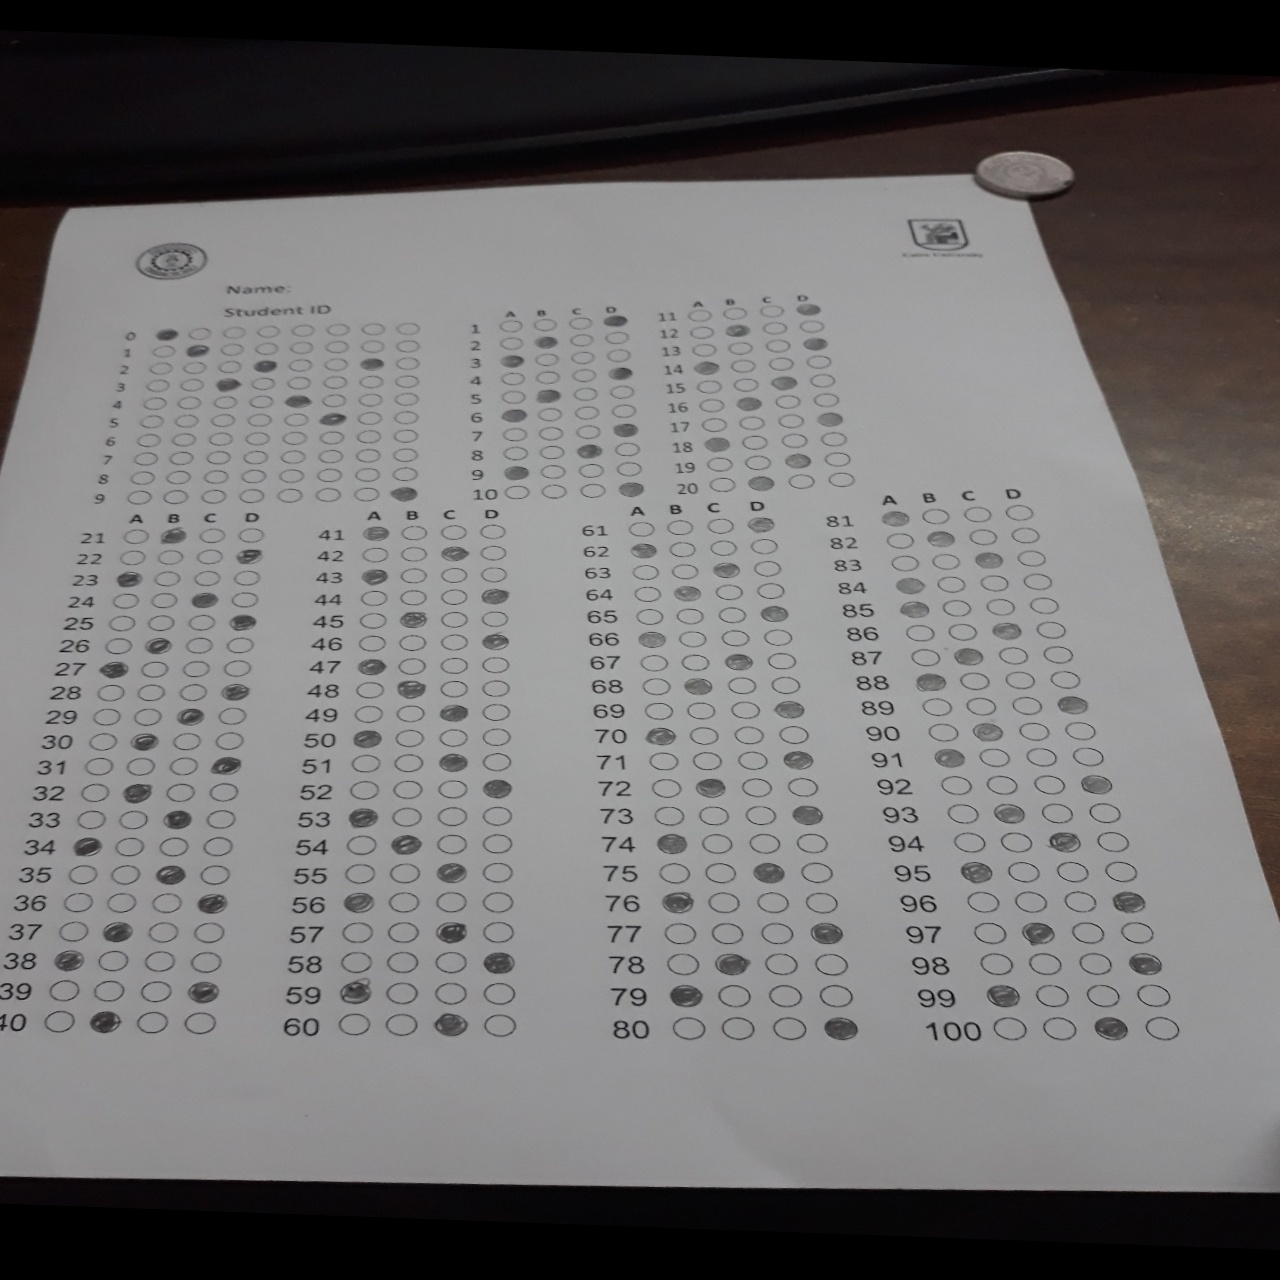not-c: (1064, 888, 1103, 913), (1135, 983, 1173, 1007), (1051, 860, 1091, 883), (1032, 772, 1071, 795), (1085, 983, 1123, 1007), (1039, 801, 1076, 824), (813, 951, 849, 975), (756, 890, 791, 914), (706, 891, 741, 915), (783, 775, 818, 799), (1077, 951, 1116, 973), (1071, 921, 1110, 944), (1024, 745, 1063, 768), (764, 949, 798, 974), (716, 983, 750, 1008), (663, 920, 697, 945), (704, 862, 738, 886), (700, 829, 734, 853), (745, 803, 779, 828), (697, 801, 731, 825), (152, 891, 186, 915), (113, 835, 147, 859), (971, 921, 1006, 945), (980, 952, 1015, 975), (770, 983, 805, 1007), (1029, 951, 1062, 975), (1035, 982, 1068, 1007), (818, 983, 851, 1008), (795, 830, 828, 855), (992, 1016, 1026, 1040), (805, 890, 839, 913), (801, 860, 835, 884), (747, 831, 781, 855), (670, 1015, 704, 1039), (736, 747, 770, 770), (384, 981, 418, 1005), (91, 979, 125, 1002), (48, 978, 82, 1001), (147, 919, 181, 942), (110, 863, 144, 886), (1144, 1017, 1182, 1039), (1112, 888, 1143, 914), (139, 978, 171, 1002), (64, 890, 96, 914), (1129, 951, 1160, 975), (772, 1016, 805, 1040), (668, 953, 701, 976), (660, 862, 693, 885), (742, 775, 775, 798), (386, 949, 418, 973), (483, 980, 516, 1003), (436, 981, 469, 1005), (339, 1012, 372, 1035), (384, 1012, 417, 1035), (45, 1009, 77, 1033), (190, 949, 223, 973), (55, 919, 88, 942), (107, 891, 139, 914), (197, 862, 230, 885), (203, 836, 236, 859), (206, 806, 239, 830), (1094, 1016, 1126, 1040), (944, 802, 978, 824), (1043, 1016, 1077, 1039), (761, 921, 795, 944), (899, 597, 933, 619), (1049, 830, 1080, 855), (1121, 921, 1156, 942), (982, 595, 1017, 617), (965, 526, 1000, 547), (484, 1013, 516, 1036), (136, 1010, 168, 1034), (69, 862, 101, 885), (157, 833, 189, 857), (77, 808, 109, 831), (987, 983, 1019, 1007), (720, 1016, 753, 1039), (712, 922, 744, 945), (116, 806, 149, 829), (774, 726, 812, 744), (995, 645, 1032, 665), (978, 572, 1014, 592), (920, 696, 954, 717), (978, 748, 1012, 769), (987, 774, 1021, 795), (685, 697, 719, 719), (724, 674, 758, 695), (678, 652, 712, 673), (1064, 720, 1098, 741), (1021, 921, 1051, 945), (961, 858, 992, 881), (933, 745, 964, 769), (435, 949, 467, 972), (186, 1012, 218, 1034), (98, 948, 130, 971), (144, 949, 176, 972), (195, 921, 226, 944), (1016, 721, 1051, 741), (1010, 695, 1046, 715), (1003, 670, 1039, 690), (1071, 745, 1104, 767), (925, 721, 958, 742), (940, 774, 973, 795), (953, 831, 986, 852), (1000, 832, 1033, 853), (1008, 860, 1041, 881), (1015, 890, 1048, 911), (731, 699, 764, 720), (649, 750, 682, 771), (652, 806, 685, 828), (678, 628, 710, 649), (719, 626, 751, 647), (761, 624, 794, 645), (345, 863, 377, 884), (914, 670, 947, 692), (484, 832, 515, 855), (1094, 831, 1128, 851), (1103, 862, 1137, 881), (651, 777, 685, 797), (771, 676, 805, 696), (483, 921, 515, 942), (165, 781, 197, 802), (86, 756, 117, 777), (169, 730, 200, 751), (217, 704, 248, 726), (131, 704, 163, 726), (89, 704, 121, 726), (135, 681, 166, 702), (104, 636, 136, 658), (185, 635, 217, 656), (1088, 803, 1121, 823), (734, 724, 767, 744), (689, 726, 722, 745), (686, 750, 719, 770), (642, 675, 675, 695), (765, 651, 798, 670), (636, 651, 669, 670), (756, 581, 789, 601), (80, 782, 113, 802), (209, 782, 241, 802), (222, 658, 254, 678), (137, 658, 170, 678), (223, 635, 256, 655), (438, 833, 469, 855), (388, 892, 418, 913), (434, 890, 464, 911), (388, 921, 418, 942), (341, 951, 372, 972), (86, 731, 120, 750), (968, 892, 1000, 912), (644, 702, 675, 722), (345, 835, 376, 855), (482, 892, 513, 912), (169, 756, 200, 776), (124, 756, 156, 776), (94, 682, 125, 702), (177, 682, 209, 702), (181, 659, 212, 679), (960, 505, 995, 523), (482, 806, 511, 828), (1042, 644, 1073, 663), (1081, 774, 1111, 794), (903, 621, 933, 641), (908, 646, 939, 666), (959, 669, 989, 689), (965, 695, 995, 715), (670, 563, 701, 583), (704, 515, 735, 535), (483, 862, 513, 881), (229, 588, 259, 608), (884, 531, 918, 549), (930, 551, 964, 568), (944, 622, 978, 640), (212, 731, 244, 750), (107, 613, 138, 632), (108, 590, 139, 608), (232, 568, 264, 587), (190, 568, 222, 587), (234, 525, 266, 544), (942, 598, 972, 618), (668, 538, 697, 558), (633, 583, 662, 602), (626, 518, 655, 538), (389, 863, 418, 883), (343, 922, 373, 942), (885, 554, 920, 571), (188, 613, 220, 631), (144, 613, 177, 631), (881, 509, 914, 526), (1050, 669, 1081, 688), (753, 558, 783, 577), (629, 563, 660, 581), (663, 518, 694, 537), (154, 568, 184, 587), (117, 549, 148, 567), (154, 549, 184, 567), (399, 522, 427, 542), (350, 753, 379, 772), (350, 778, 379, 798), (393, 779, 421, 799), (440, 806, 468, 826), (392, 805, 420, 825), (915, 508, 949, 524), (935, 576, 969, 592), (195, 525, 226, 543), (121, 527, 152, 545), (892, 577, 924, 594), (1030, 595, 1060, 614), (750, 536, 779, 554), (715, 583, 744, 601), (676, 605, 706, 624), (822, 450, 851, 469), (819, 430, 849, 449), (399, 632, 428, 651), (395, 728, 424, 747), (1022, 572, 1053, 590), (150, 592, 181, 610), (192, 549, 223, 566), (712, 537, 740, 556), (717, 605, 745, 624), (636, 605, 665, 624), (813, 390, 842, 409), (481, 679, 509, 697), (360, 588, 388, 607), (360, 611, 388, 629), (356, 679, 384, 697), (438, 727, 467, 745), (395, 753, 423, 771), (438, 778, 467, 797), (1036, 620, 1065, 638), (483, 728, 512, 745), (400, 588, 429, 606), (358, 634, 387, 652), (1005, 504, 1035, 520), (1015, 550, 1046, 566), (288, 373, 316, 390), (281, 448, 309, 465), (278, 467, 306, 484), (274, 486, 302, 504), (239, 488, 267, 505), (200, 488, 229, 505), (164, 488, 192, 505), (128, 469, 156, 486), (131, 449, 159, 467), (172, 411, 200, 429), (478, 544, 506, 561), (481, 610, 509, 627), (482, 753, 510, 770), (400, 567, 428, 585), (440, 611, 468, 628), (440, 633, 468, 651), (399, 656, 427, 674), (438, 680, 467, 697), (396, 704, 424, 722), (811, 369, 837, 388), (354, 704, 383, 721), (571, 331, 598, 348), (315, 486, 342, 504), (248, 393, 275, 410), (206, 448, 233, 465), (203, 467, 230, 484), (147, 358, 173, 375), (481, 702, 508, 720), (440, 522, 467, 539), (401, 545, 428, 563), (828, 471, 856, 488), (744, 454, 772, 470), (615, 461, 644, 477), (614, 440, 642, 456), (608, 402, 636, 418), (602, 348, 631, 365), (531, 316, 559, 333), (532, 350, 560, 367), (570, 366, 598, 382), (536, 406, 564, 422), (537, 425, 565, 442), (578, 462, 606, 478), (395, 321, 423, 338), (288, 338, 316, 354), (252, 340, 280, 356), (281, 411, 309, 428), (240, 469, 268, 485), (241, 450, 270, 467), (243, 430, 271, 447), (250, 374, 278, 390), (216, 359, 244, 375), (212, 393, 240, 409), (168, 431, 196, 448), (135, 431, 163, 448), (137, 413, 165, 429), (139, 394, 168, 410), (143, 376, 171, 393), (151, 341, 179, 358), (186, 326, 215, 342), (478, 523, 506, 539), (440, 566, 468, 583), (360, 546, 388, 563), (1012, 527, 1041, 543), (798, 318, 825, 334), (685, 305, 712, 321), (692, 341, 719, 358), (695, 377, 722, 394), (778, 414, 805, 430), (738, 415, 765, 431), (707, 476, 734, 492), (533, 368, 560, 384), (571, 386, 598, 402), (499, 389, 526, 406), (579, 482, 606, 498), (540, 483, 567, 499), (540, 463, 567, 479), (219, 340, 246, 356), (127, 488, 154, 504), (173, 394, 200, 410), (181, 358, 207, 374), (481, 566, 508, 583), (440, 587, 467, 604), (440, 658, 467, 674), (761, 321, 789, 336), (765, 356, 794, 372), (697, 399, 726, 414), (740, 436, 768, 451), (571, 350, 599, 366), (501, 425, 529, 441), (499, 444, 527, 459), (286, 356, 314, 372), (280, 431, 308, 447), (207, 433, 236, 448), (177, 376, 205, 392), (707, 456, 733, 472), (356, 428, 382, 444), (246, 411, 272, 428), (806, 354, 833, 369), (762, 338, 789, 353), (726, 339, 753, 354), (774, 395, 801, 410), (701, 417, 728, 433), (788, 472, 815, 488), (608, 383, 635, 399), (568, 315, 595, 331), (501, 372, 527, 387), (576, 424, 602, 440), (504, 485, 531, 501), (392, 448, 418, 463), (210, 411, 237, 427), (165, 471, 192, 486), (168, 451, 195, 467), (481, 656, 508, 672), (731, 377, 760, 392), (573, 406, 601, 420), (537, 445, 565, 459), (758, 302, 784, 318), (722, 305, 748, 320), (730, 358, 756, 373), (779, 433, 805, 448), (497, 336, 523, 352), (396, 355, 422, 370), (396, 374, 422, 389), (393, 390, 418, 406), (393, 410, 418, 425), (354, 486, 380, 502), (358, 410, 383, 425), (360, 373, 386, 388), (359, 338, 384, 353), (359, 321, 384, 336), (326, 321, 352, 336), (325, 339, 350, 354), (321, 392, 347, 407), (319, 430, 345, 445), (689, 324, 716, 338), (602, 329, 629, 343), (493, 316, 520, 331), (392, 468, 418, 482), (358, 392, 384, 406), (395, 338, 420, 353), (394, 428, 418, 443), (356, 447, 381, 462), (324, 356, 348, 372), (322, 375, 347, 390), (319, 467, 343, 482), (291, 324, 316, 338), (257, 324, 282, 338), (220, 324, 246, 338), (318, 448, 343, 462), (353, 467, 377, 481)
taken-c: (479, 775, 513, 798), (483, 951, 516, 974), (348, 804, 381, 828), (438, 701, 471, 724), (434, 1013, 467, 1035), (342, 891, 375, 913), (352, 726, 384, 748), (990, 802, 1024, 823), (433, 921, 467, 942), (436, 751, 470, 772), (658, 832, 689, 855), (753, 862, 784, 884), (669, 983, 701, 1006), (435, 862, 467, 884), (339, 981, 372, 1002), (390, 835, 423, 856), (716, 953, 747, 975), (826, 1016, 857, 1039), (1055, 695, 1089, 715), (988, 622, 1022, 642), (922, 527, 956, 547), (477, 629, 509, 651), (89, 1012, 121, 1033), (952, 646, 985, 666), (644, 726, 676, 745), (356, 656, 389, 676), (103, 920, 132, 942), (663, 892, 694, 913), (810, 921, 840, 942), (155, 863, 185, 884), (197, 893, 227, 914), (54, 949, 84, 971), (974, 549, 1006, 568), (395, 679, 427, 699), (399, 610, 430, 629), (479, 585, 511, 605), (358, 566, 389, 586), (73, 835, 102, 856), (971, 722, 1003, 741), (359, 523, 392, 542), (189, 982, 219, 1002), (791, 805, 823, 824), (131, 731, 159, 751), (760, 605, 791, 622), (670, 585, 702, 602), (721, 653, 753, 670), (234, 546, 264, 565), (190, 591, 219, 610), (212, 756, 241, 775), (163, 810, 192, 829), (628, 542, 659, 559), (783, 750, 813, 768), (695, 779, 726, 797), (176, 708, 204, 727), (123, 783, 151, 802), (636, 629, 668, 646), (497, 350, 526, 368), (157, 527, 186, 545), (733, 395, 763, 411), (745, 516, 776, 532), (682, 678, 713, 694), (535, 386, 563, 403), (229, 613, 257, 631), (115, 571, 143, 588), (775, 701, 804, 717), (440, 545, 469, 561), (284, 392, 313, 408), (151, 325, 181, 341), (98, 661, 128, 678), (794, 301, 824, 316), (693, 360, 723, 375), (765, 375, 796, 390), (745, 476, 776, 491), (703, 436, 731, 452), (502, 464, 530, 481), (501, 406, 529, 422), (251, 356, 279, 373), (186, 341, 215, 358), (220, 683, 248, 700), (779, 452, 809, 468), (712, 561, 741, 577), (801, 338, 832, 352), (813, 411, 845, 425), (144, 636, 171, 653), (390, 486, 418, 502), (318, 410, 346, 425), (216, 376, 244, 392), (185, 342, 213, 358), (724, 324, 754, 338), (358, 355, 384, 370), (617, 481, 644, 495), (607, 366, 632, 381), (602, 312, 627, 327), (533, 334, 559, 348), (576, 444, 600, 458), (612, 423, 636, 437)
